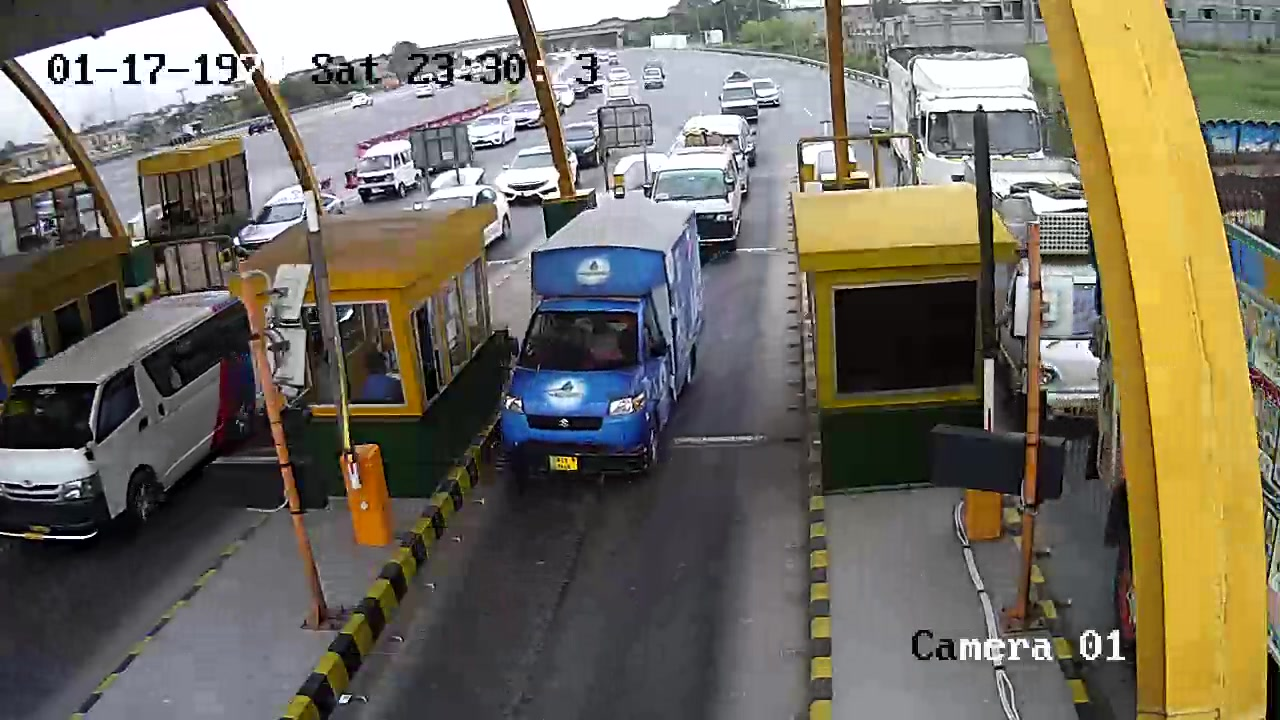F2: (483, 201, 696, 487)
